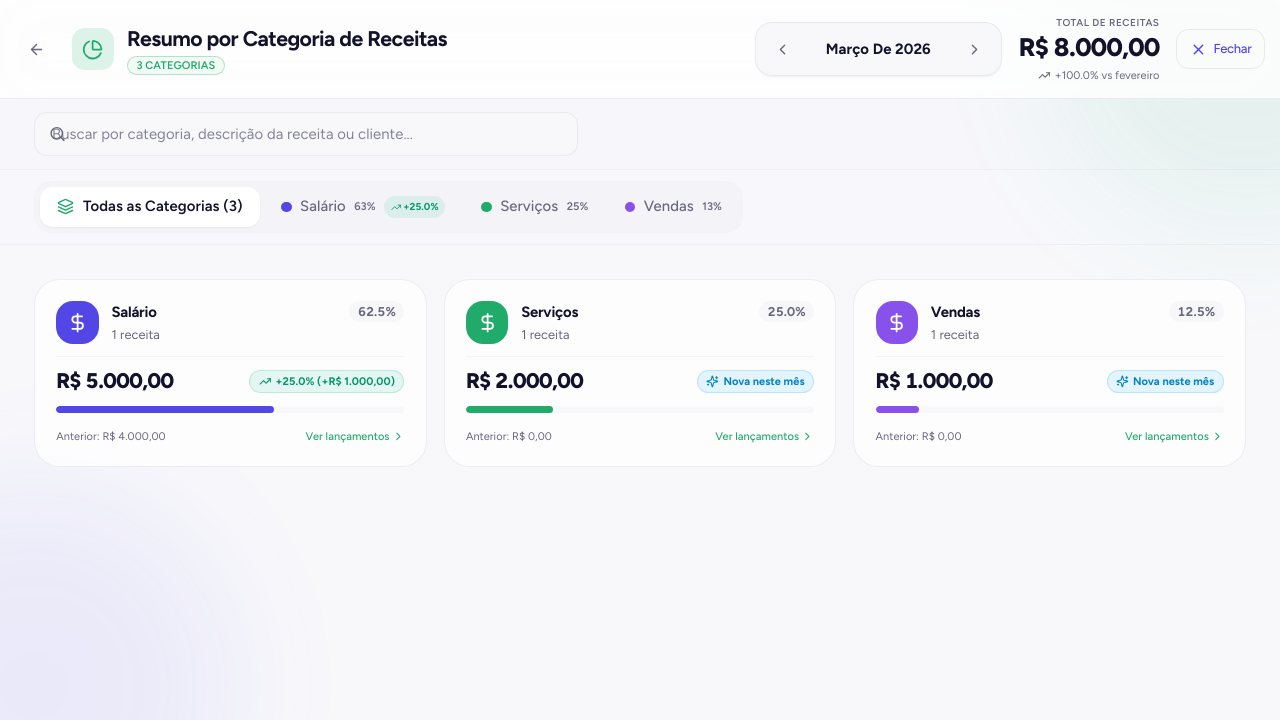
Test: AllIncomeCategoriesSheet — Receitas por Categoria › permite navegar para uma categoria específica e ver seus lançamentos
The width and height of the screenshot is (1280, 720).
Clica no card de Salário
Click the heading "Salário". click: [136, 313]
box: [112,302,160,324]
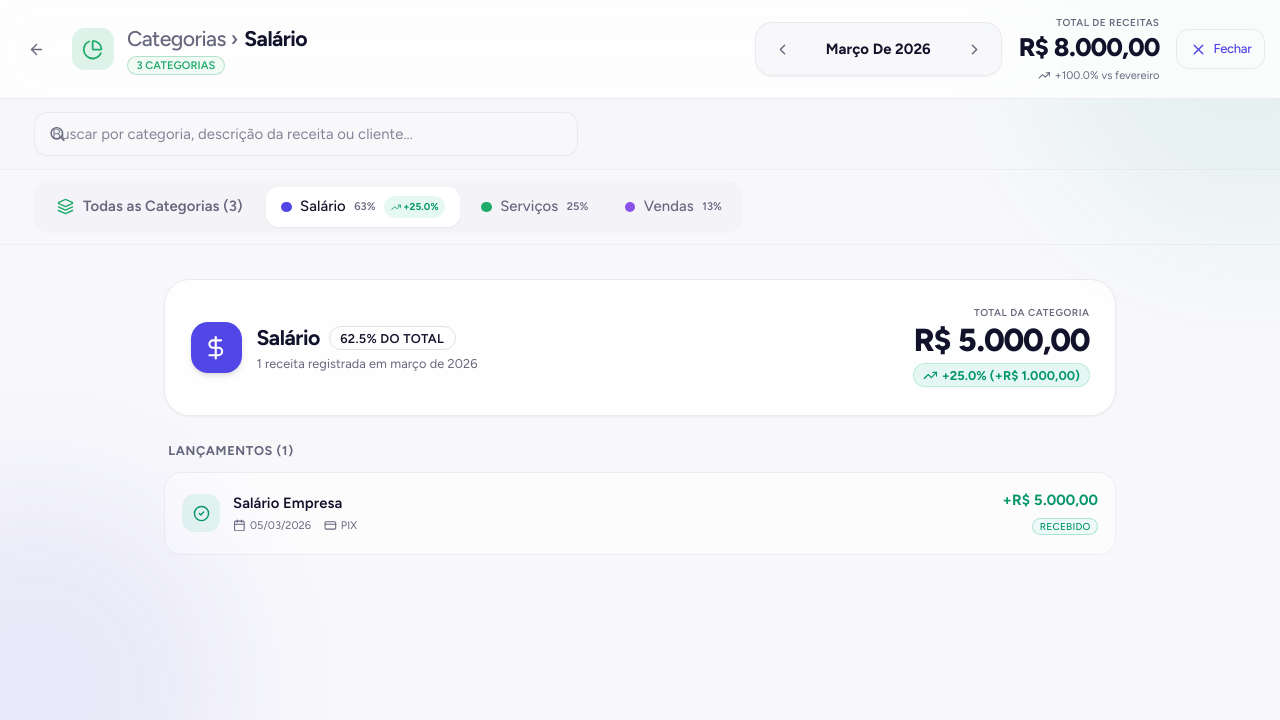
Result: the text "Salário Empresa" is shown at [233,493,357,514]
Result: the text "Recebido" is shown at [1032,518,1098,535]
